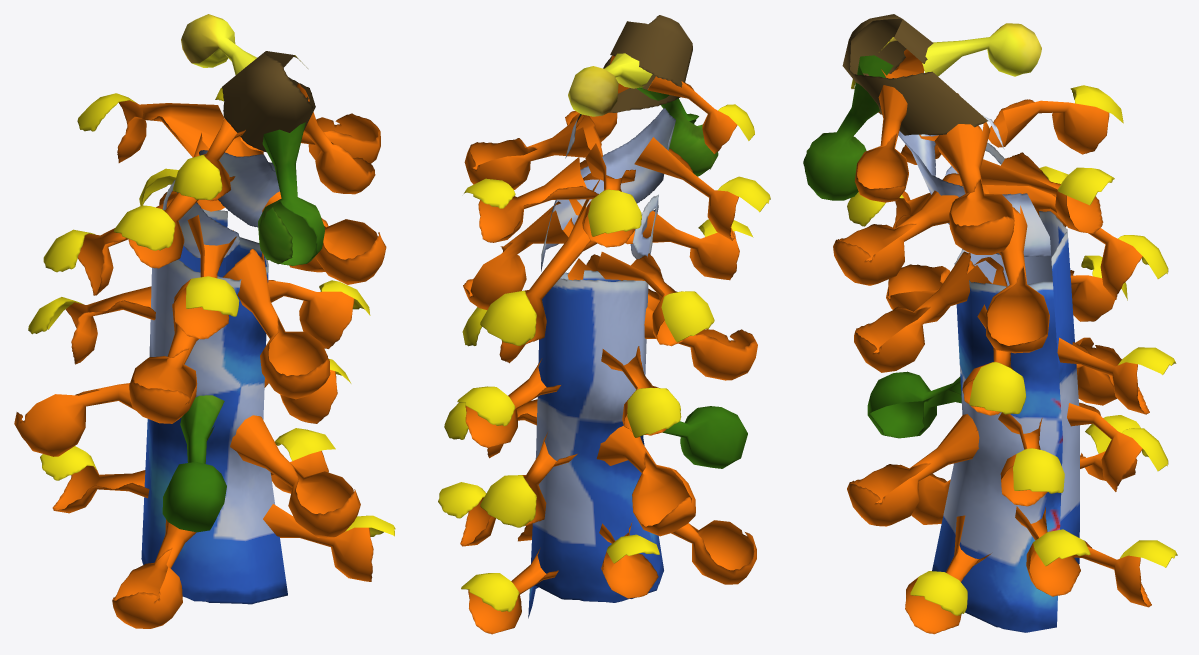
File: Mode_PlantePolluee.fbx
3 views of the same model, side by side, from view 1: azimuth 30°, elevation 25°; view 2: azimuth 150°, elevation 25°; view 3: azimuth 270°, elevation 25° (orthographic). The views are drawn at different scales.
Visible parts, largest first — view 1: plante_bulbe_polluee; view 2: plante_bulbe_polluee; view 3: plante_bulbe_polluee.
Boxes of the visible parts, x1,y1,x2,y2 form: plante_bulbe_polluee: (14,14,395,628); plante_bulbe_polluee: (438,15,770,634); plante_bulbe_polluee: (803,14,1177,634).
Size of the model in its own units: 80.66 by 153 by 90.36.
